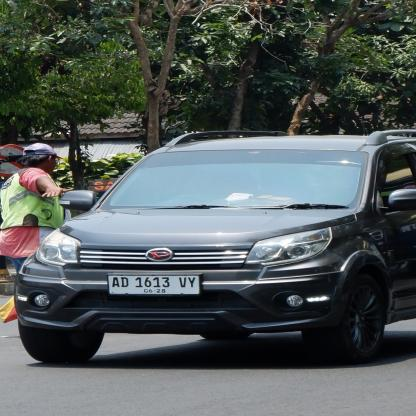Plat-Nomor: (107, 270, 206, 300)
